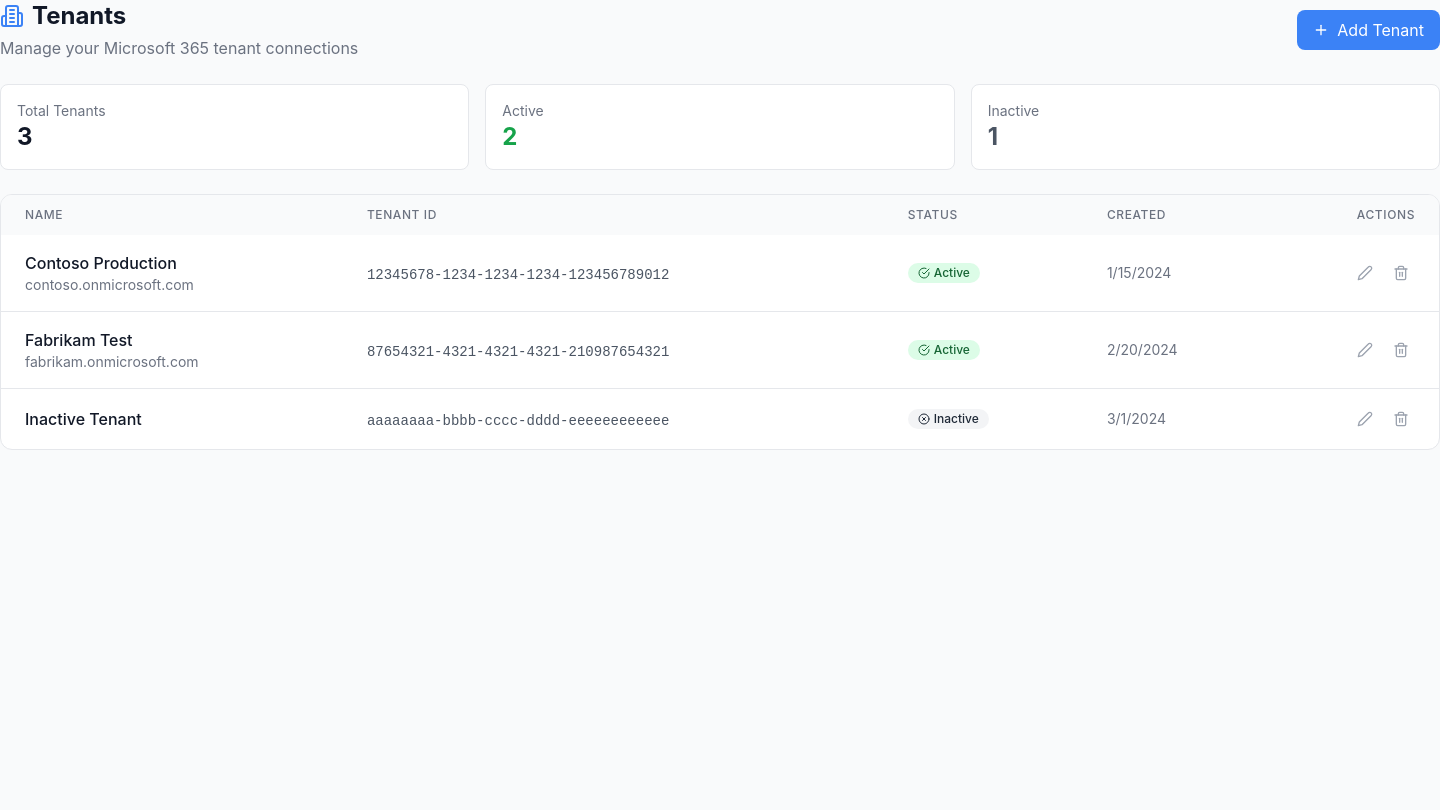
it: Tenants Page › opens add tenant modal when add button is clicked
The width and height of the screenshot is (1440, 810).
What coordinates should you click on to do the following:
click the button "Add Tenant"
I would click on:
 (1369, 30)
Its box is [1297, 10, 1439, 50].
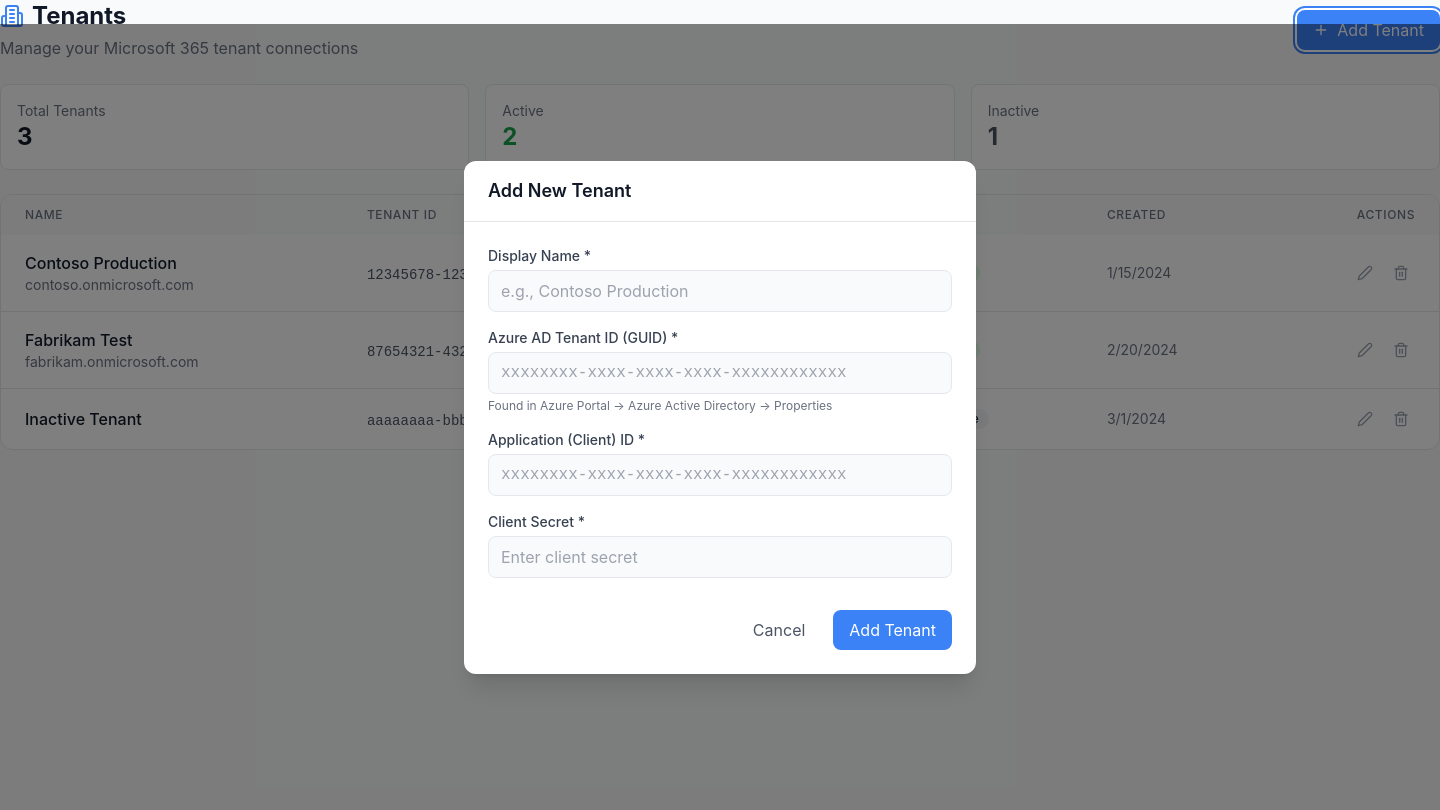
Now the heading "Add New Tenant" is shown, box [488, 180, 631, 200]
